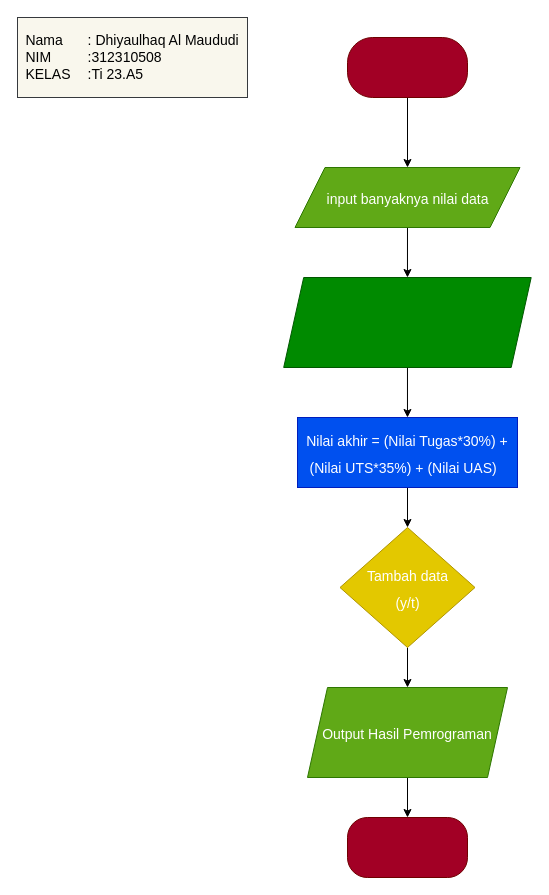
The diagram is 549 pixels wide and 895 high, and some of its shapes have lost their labels. Here are the shapes that lost their labels. From the top down, the box of each, then its label:
(346, 36, 468, 98): Start
(283, 276, 531, 368): input(Nama,NIM,Nilai Tugas,Nilai UTS,Nilai UAS
(346, 816, 468, 878): End
